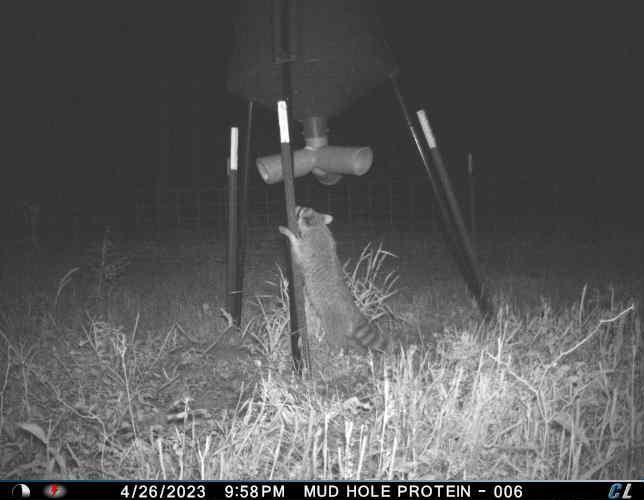Raccoon: (277, 197, 414, 365)
